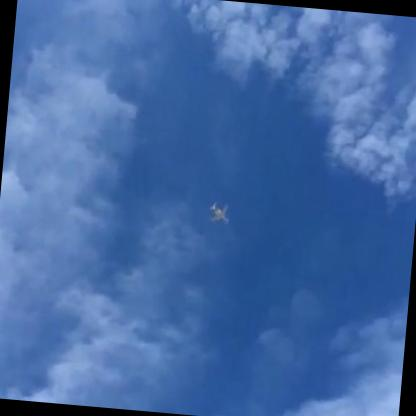plane: (206, 202, 230, 226)
